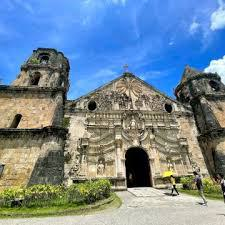Environmental Damage: (62, 115, 71, 129), (27, 58, 42, 66)
Miagao Church: (2, 44, 225, 191)
